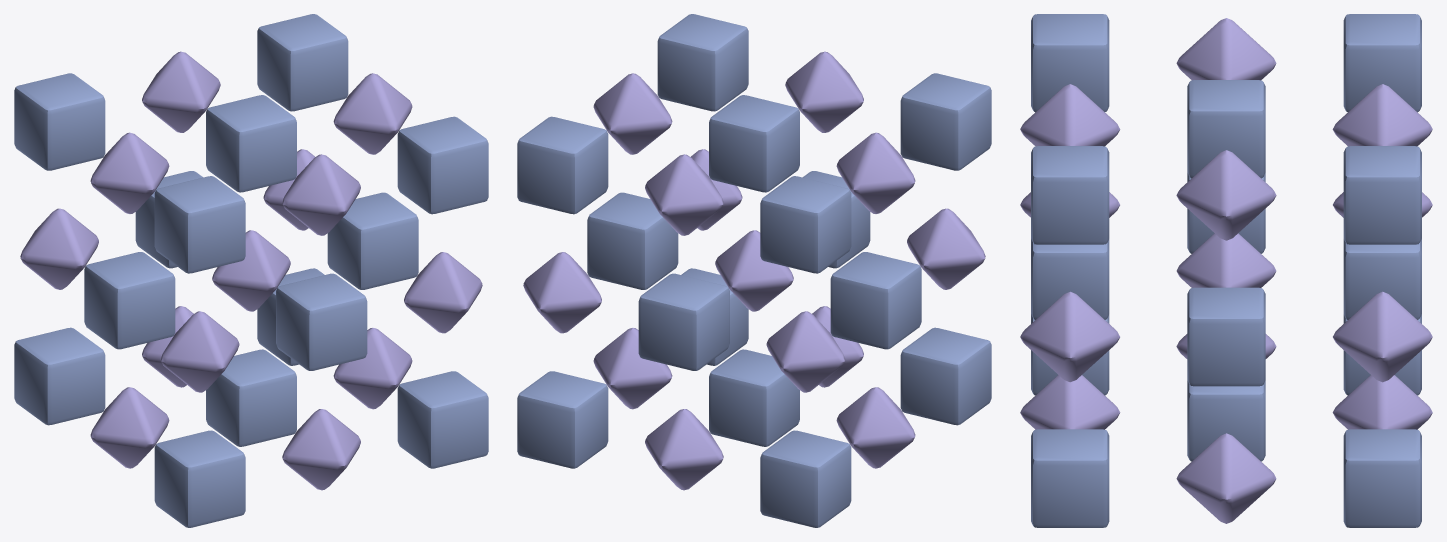
File: cloner_shape.fbx
3 views of the same model, side by side, from view 1: azimuth 30°, elevation 25°; view 2: azimuth 150°, elevation 25°; view 3: azimuth 270°, elevation 25° (orthographic). The views are drawn at different scales.
Parts seen in each view (by area): view 1: Cloner_Shape; view 2: Cloner_Shape; view 3: Cloner_Shape.
Boxes of the visible parts, x1=… form: Cloner_Shape: x1=14, y1=14, x2=488, y2=527; Cloner_Shape: x1=517, y1=14, x2=991, y2=527; Cloner_Shape: x1=1020, y1=14, x2=1432, y2=527.
Size of the model in its own units: 21.13 by 21.13 by 21.13.
